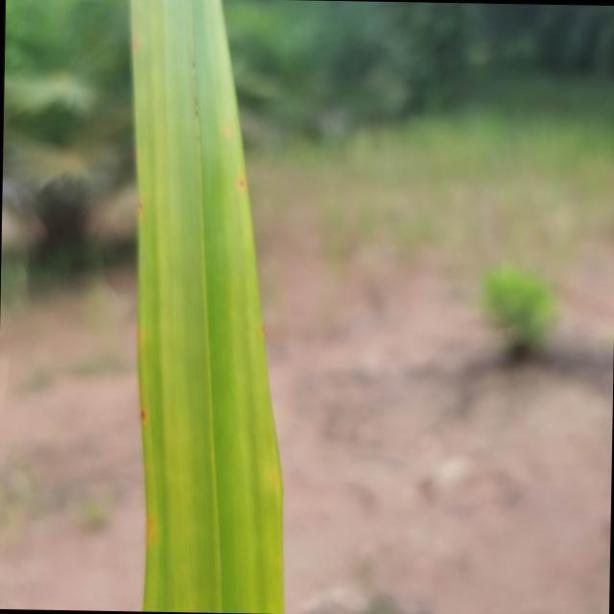nitrogen: (122, 0, 283, 614)
